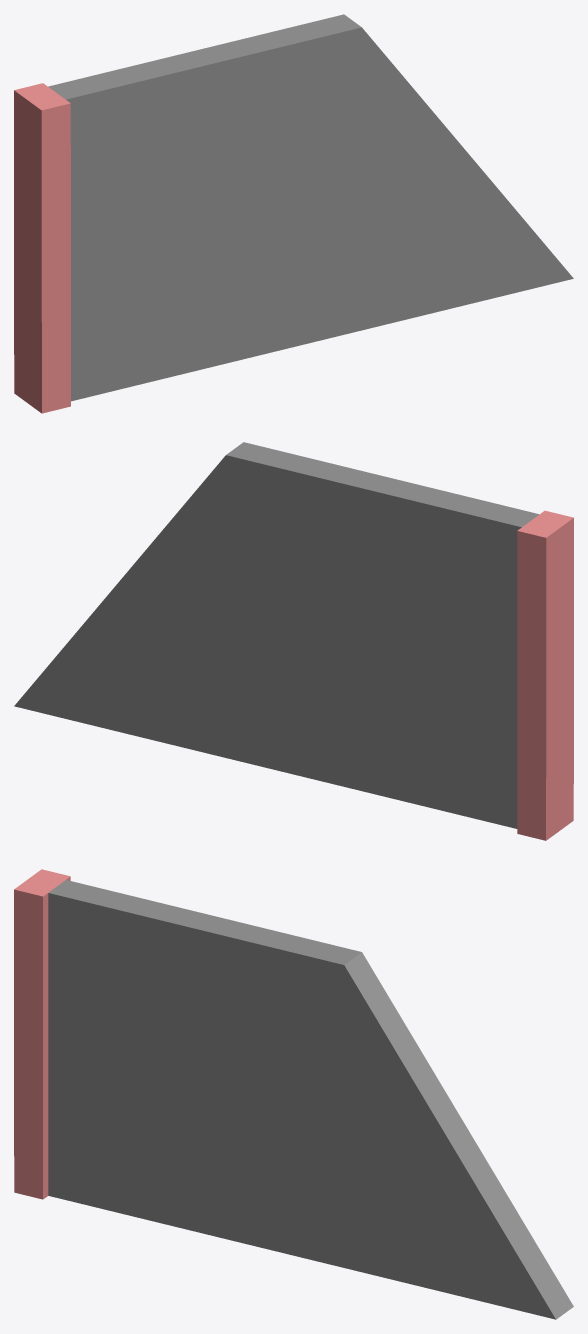
Rendered from S_Envi_Umeda_Module_Strip03c.gltf.
3 renders of one model, top to bottom at view 1: azimuth 30°, elevation 25°; view 2: azimuth 150°, elevation 25°; view 3: azimuth 330°, elevation 25°, orthographic.
Visible parts, largest first — view 1: S_Envi_Umeda_Module_Strip03c; view 2: S_Envi_Umeda_Module_Strip03c; view 3: S_Envi_Umeda_Module_Strip03c.
Part boxes in pixels (x1,y1,x2,y2): S_Envi_Umeda_Module_Strip03c: (14,14,573,413); S_Envi_Umeda_Module_Strip03c: (14,442,573,840); S_Envi_Umeda_Module_Strip03c: (14,869,573,1319).
Bounding box in the file's own units: 1.66 × 0.8943 × 0.1481.
